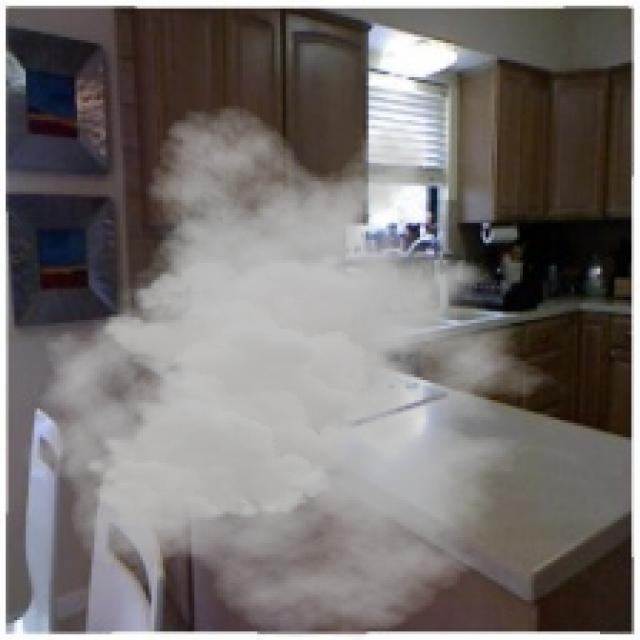Smoke: (23, 102, 583, 638)
